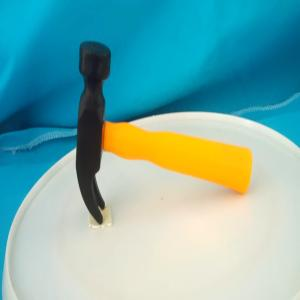martelo: (74, 41, 254, 225)
